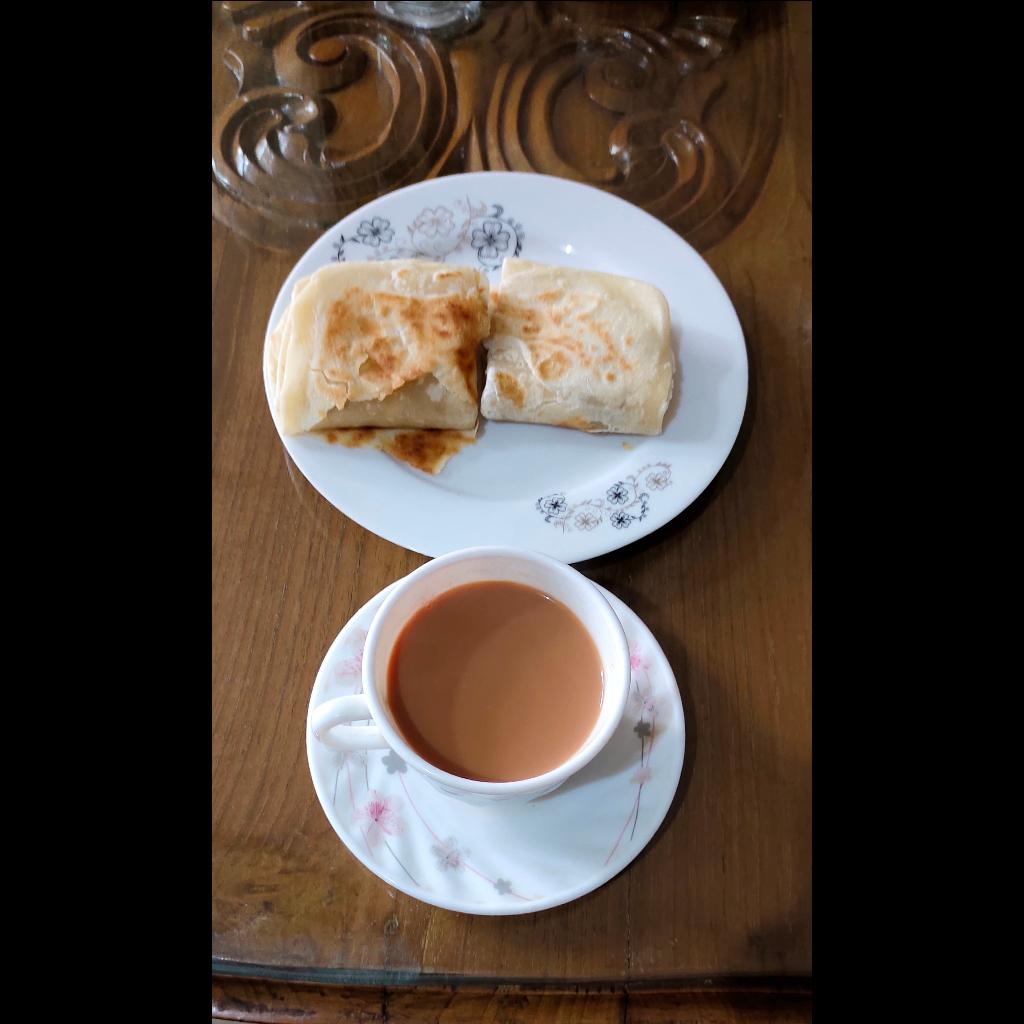cha: (385, 576, 607, 782)
ruti: (265, 249, 675, 486)
